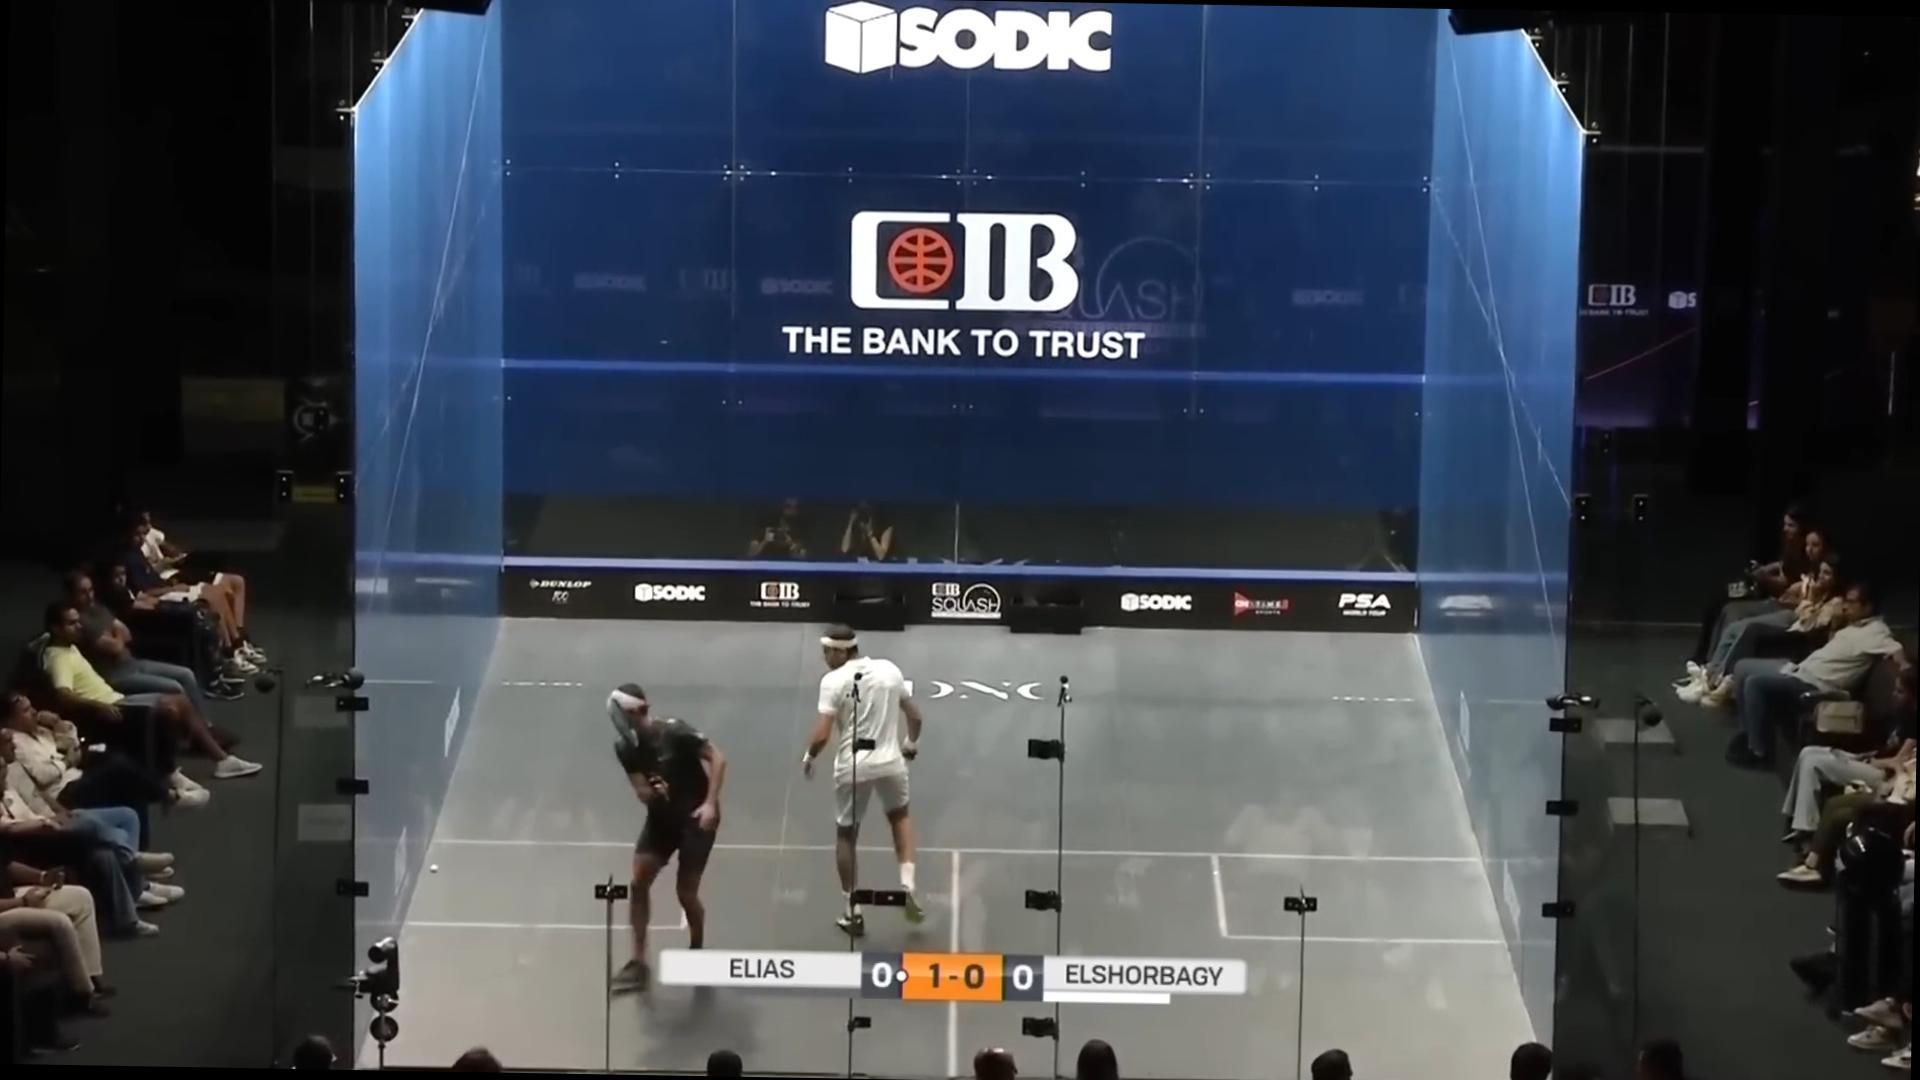Squash-Ball: (425, 853, 448, 881)
